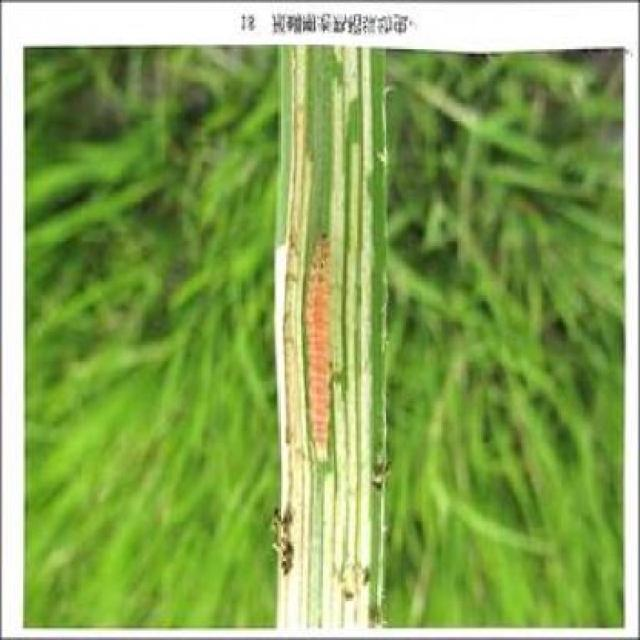leaf-folder: (292, 213, 339, 482)
